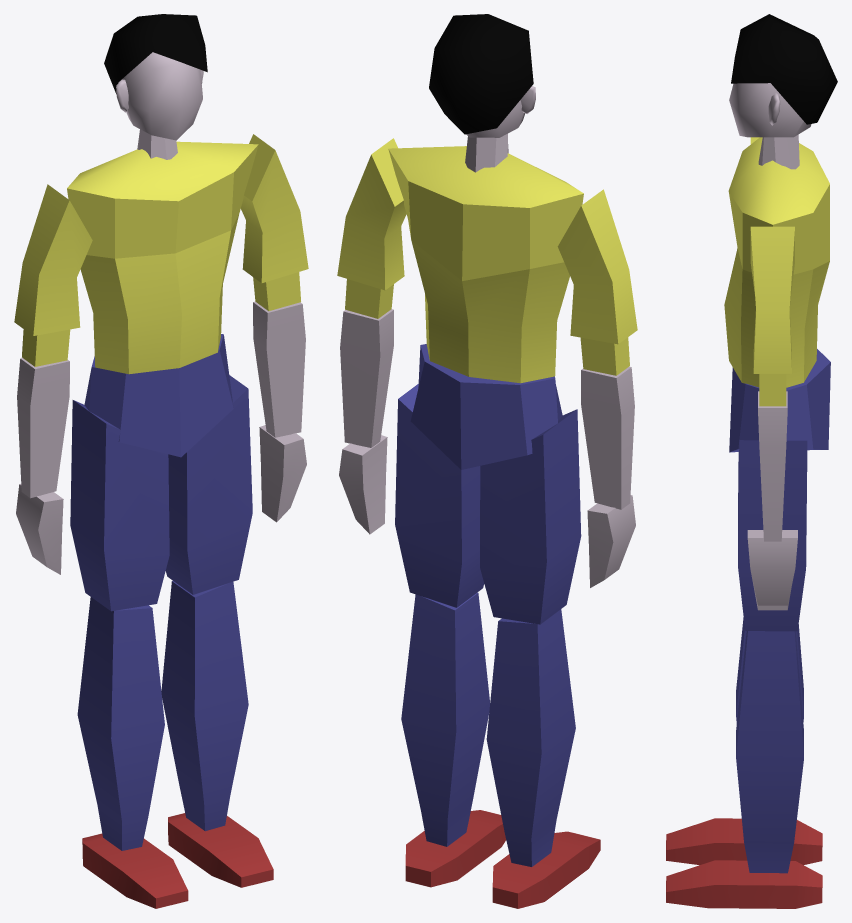
The model's file is heroRigg.fbx.
The picture shows the model from 3 angles, left to right: view 1: azimuth 30°, elevation 25°; view 2: azimuth 150°, elevation 25°; view 3: azimuth 270°, elevation 25°; orthographic projection. The views are drawn at different scales.
Visible parts, largest first — view 1: torso, D_perna02, E_perna02, D_perna01, E_perna01, pelvis, D_braço01, E_braço01, cebeca, D_braço02, E_braço02, D_pe (+4 smaller); view 2: torso, D_perna02, E_perna02, D_perna01, E_perna01, pelvis, cabelo1, D_braço01, E_braço01, D_braço02, E_braço02, D_pe (+4 smaller); view 3: torso, E_perna02, E_perna01, cabelo1, E_braço01, E_pe, pelvis, cebeca, D_pe, E_braço02, E_mao, D_perna02.
Boxes of the visible parts, x1,y1,x2,y2 form: torso: (67, 141, 258, 374); D_perna02: (77, 597, 164, 850); E_perna02: (161, 581, 248, 831); D_perna01: (70, 400, 169, 611); E_perna01: (165, 375, 252, 594); pelvis: (84, 334, 233, 457); D_braço01: (14, 184, 92, 366); E_braço01: (241, 134, 308, 311); cebeca: (116, 52, 203, 159); D_braço02: (17, 358, 69, 498); E_braço02: (253, 301, 305, 437); D_pe: (82, 833, 188, 908); torso: (388, 146, 583, 383); D_perna02: (486, 609, 575, 866); E_perna02: (401, 592, 490, 846); D_perna01: (480, 409, 581, 624); E_perna01: (395, 384, 484, 607); pelvis: (410, 344, 562, 469); cabelo1: (429, 14, 533, 134); D_braço01: (557, 189, 637, 375); E_braço01: (337, 138, 406, 318); D_braço02: (581, 366, 634, 509); E_braço02: (340, 309, 393, 447); D_pe: (492, 831, 600, 908); torso: (724, 137, 829, 387); E_perna02: (736, 631, 803, 873); E_perna01: (738, 440, 807, 631); cabelo1: (731, 14, 837, 124); E_braço01: (750, 226, 794, 406); E_pe: (666, 860, 822, 908); pelvis: (729, 349, 830, 452); cebeca: (729, 83, 811, 169); D_pe: (666, 818, 822, 865); E_braço02: (758, 391, 787, 541); E_mao: (747, 530, 797, 610); D_perna02: (736, 617, 803, 723).
Size of the model in its own units: 16.6 by 48.62 by 8.85.
